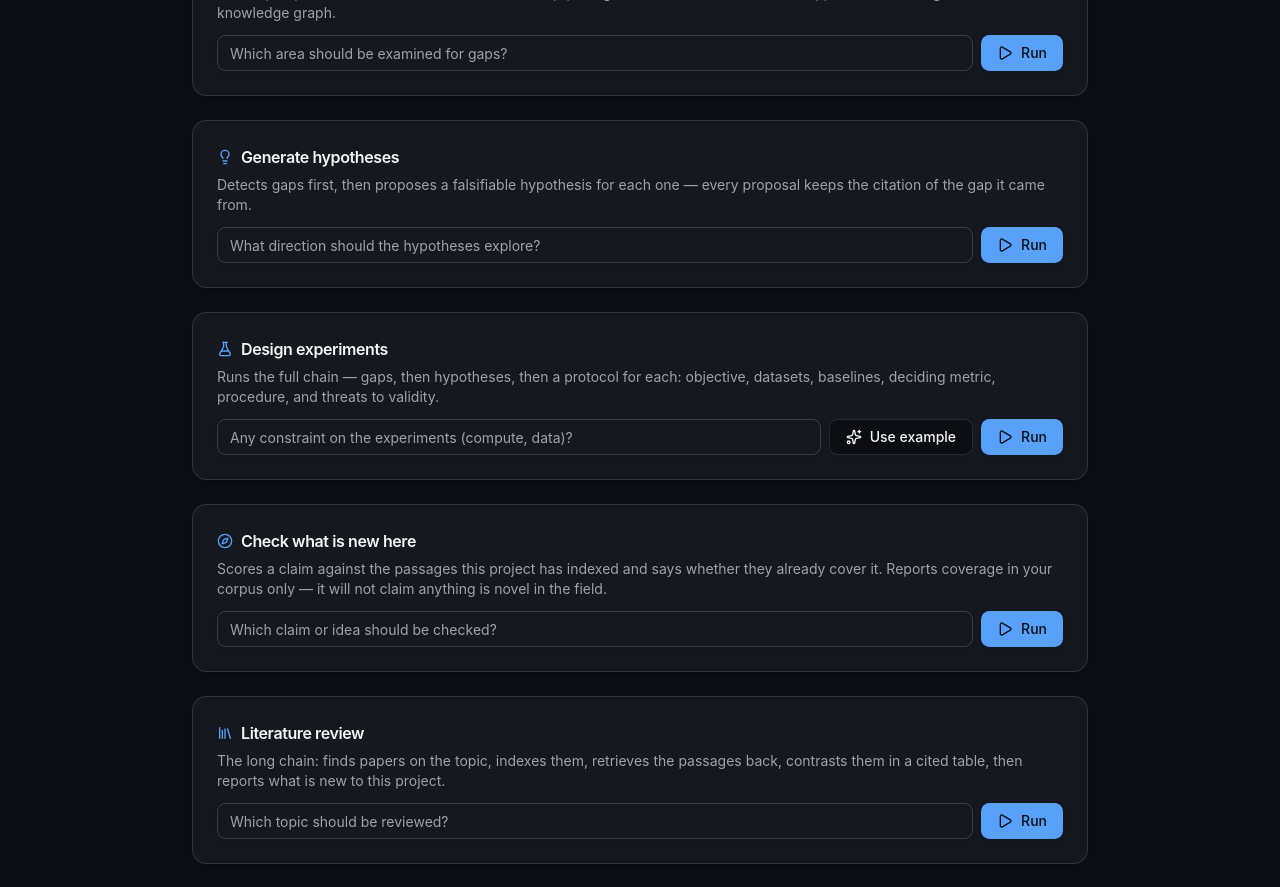
Test case: WorkflowPanel › fills a card with its example input in the example project
(page scrolled)
Click the button with aria-label "use the example input for design experiments" at coordinates (901, 437), box [829, 419, 973, 455]
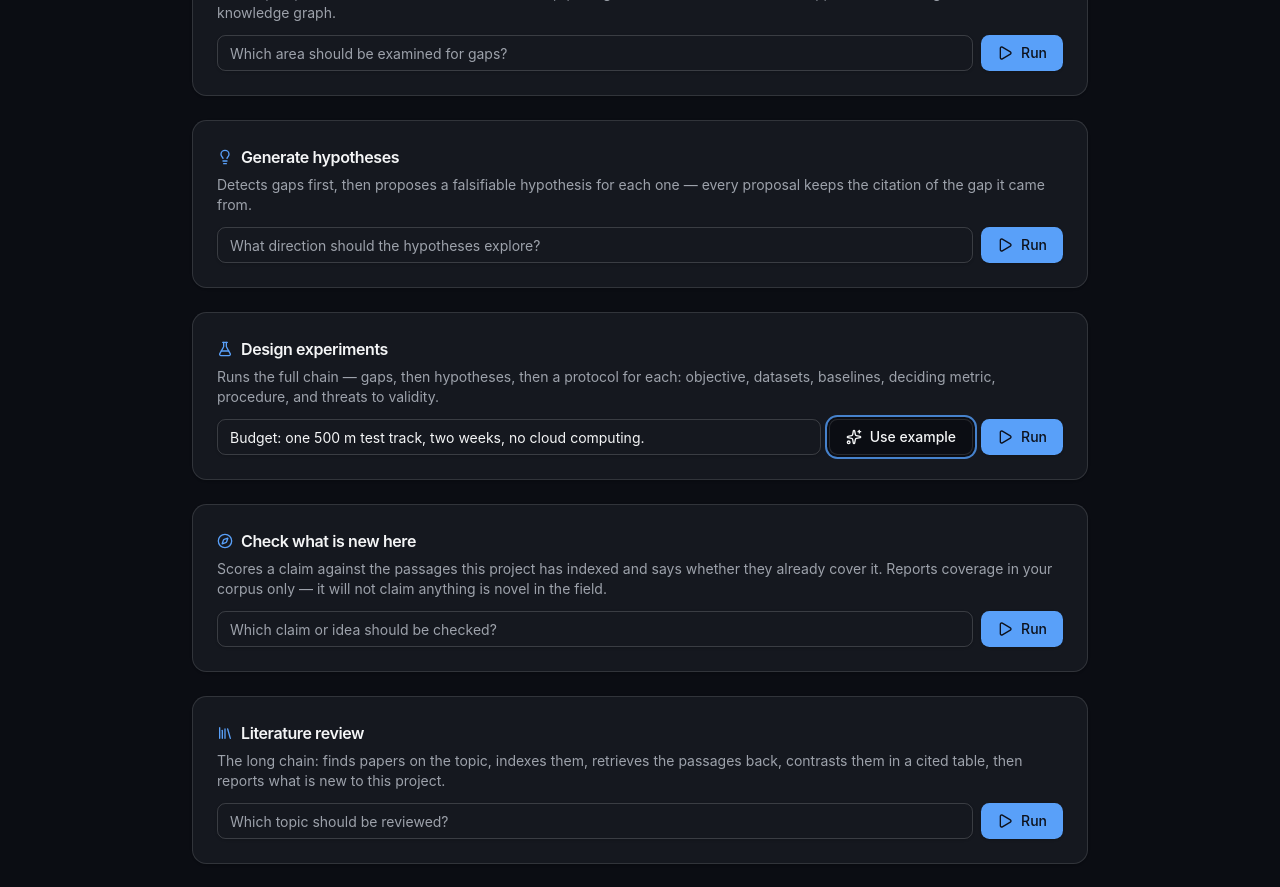
Expected: the number of buttons named "use the example input" is 1, [829, 419, 973, 455]
Result: the field named "design experiments" holds "Budget: one 500 m test track, two weeks, no cloud computing." at [217, 419, 821, 455]
